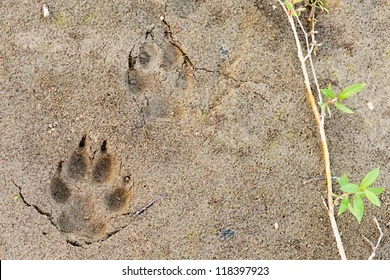coyote: (47, 135, 135, 243), (126, 31, 189, 119)
